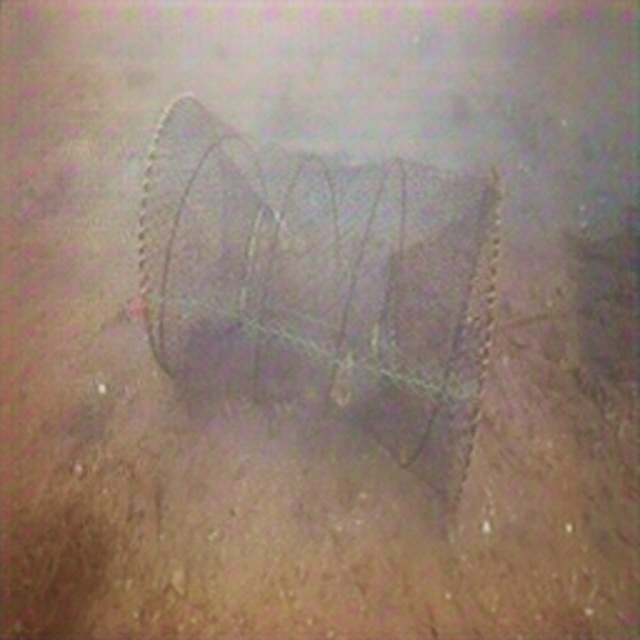mine: (139, 91, 504, 519)
